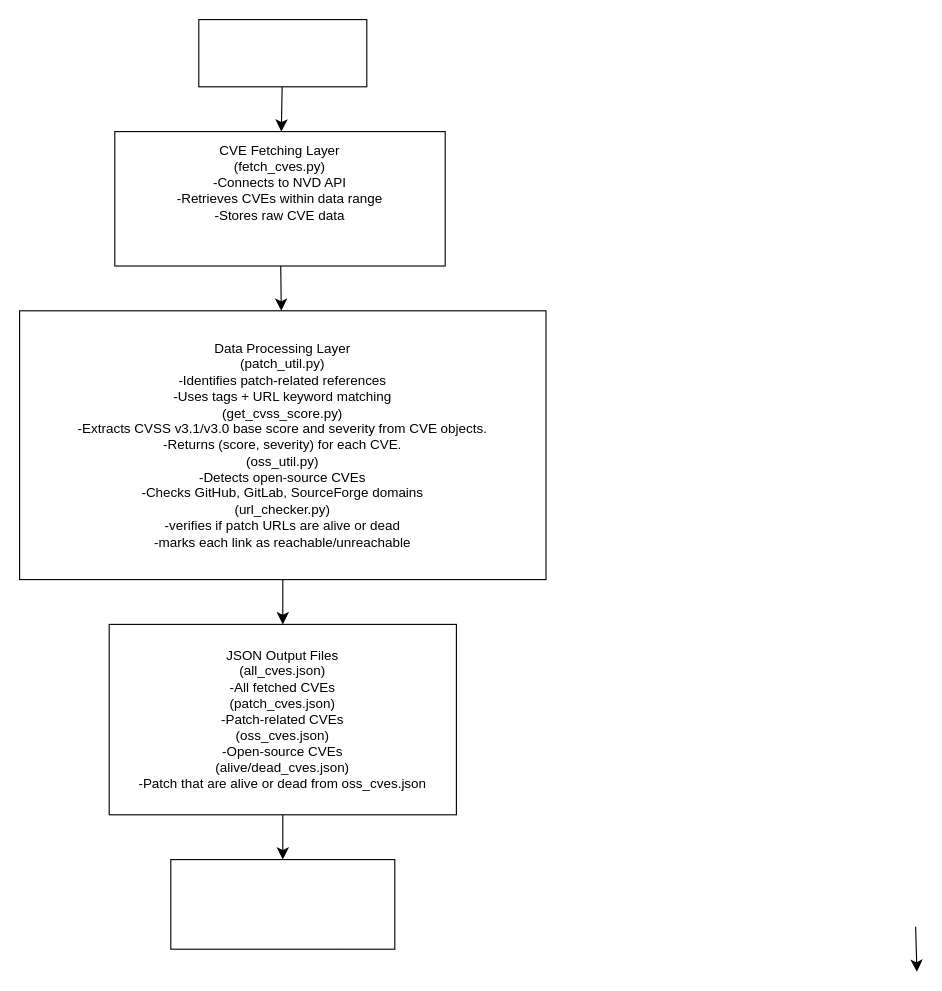
The diagram is 942 pixels wide and 991 high, and some of its shapes have lost their labels. Here are the shapes that lost their labels. From the top down, the centre of each, then its label:
At [282,52]: "User Input (Date Range + API Key)".
At [282,903]: "Logging System -Logs each step: fetching, filtering, checkpoint, and saving".
